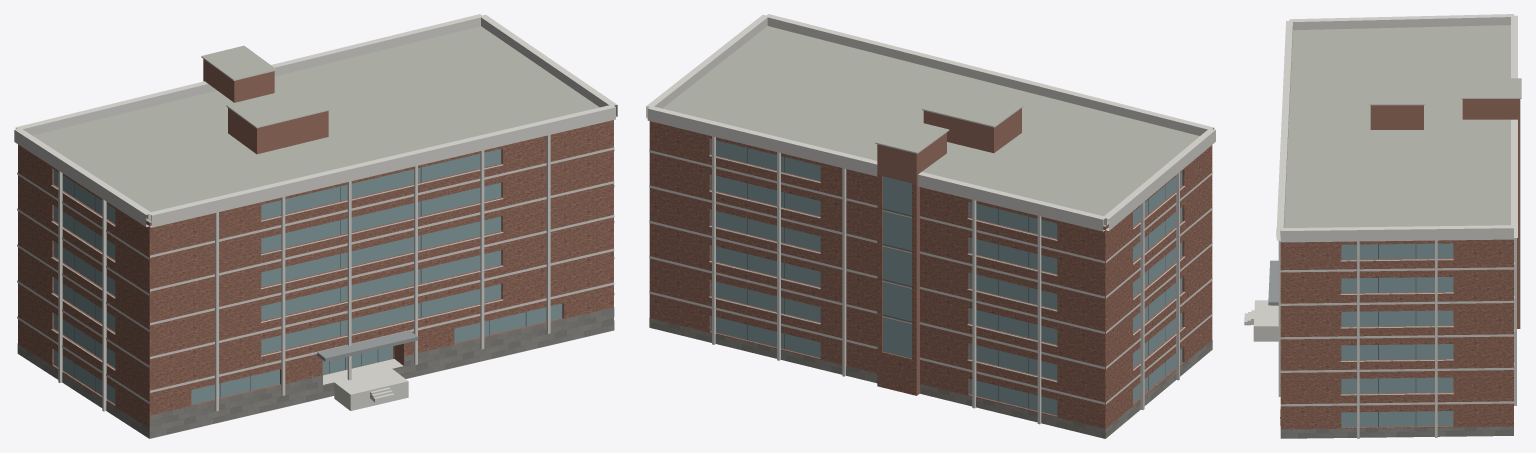
3 renders of one model, left to right at view 1: azimuth 30°, elevation 25°; view 2: azimuth 150°, elevation 25°; view 3: azimuth 270°, elevation 25°, orthographic. The views are drawn at different scales.
Parts seen in each view (by area): view 1: hum6__wall, hum6__roof, hum6__trim, hum6__glass, hum6__base, hum6__wall2, hum6__entranceStair, hum6__canopy; view 2: hum6__wall, hum6__roof, hum6__trim, hum6__glass, hum6__base, hum6__wall2, hum6__frame; view 3: hum6__roof, hum6__wall, hum6__trim, hum6__glass, hum6__wall2, hum6__base, hum6__entranceStair, hum6__canopy.
Boxes of the visible parts, x1,y1,x2,y2 form: hum6__wall: [18, 120, 613, 438]; hum6__roof: [33, 26, 612, 438]; hum6__trim: [14, 14, 617, 411]; hum6__glass: [54, 149, 562, 404]; hum6__base: [17, 307, 614, 438]; hum6__wall2: [203, 59, 328, 154]; hum6__entranceStair: [323, 359, 408, 410]; hum6__canopy: [317, 330, 418, 361]; hum6__wall: [649, 121, 1212, 438]; hum6__roof: [663, 26, 1199, 438]; hum6__trim: [646, 14, 1215, 424]; hum6__glass: [711, 139, 1182, 415]; hum6__base: [649, 318, 1212, 438]; hum6__wall2: [877, 108, 1021, 395]; hum6__frame: [747, 148, 1165, 408]; hum6__roof: [1284, 25, 1521, 345]; hum6__wall: [1280, 239, 1513, 429]; hum6__trim: [1276, 14, 1521, 438]; hum6__glass: [1341, 243, 1453, 427]; hum6__wall2: [1370, 99, 1520, 328]; hum6__base: [1280, 409, 1513, 438]; hum6__entranceStair: [1244, 300, 1278, 341]; hum6__canopy: [1268, 260, 1278, 305].
Bounding box in the file's own units: 50.02 × 25.17 × 27.01.
10 materials, 2 textured.
